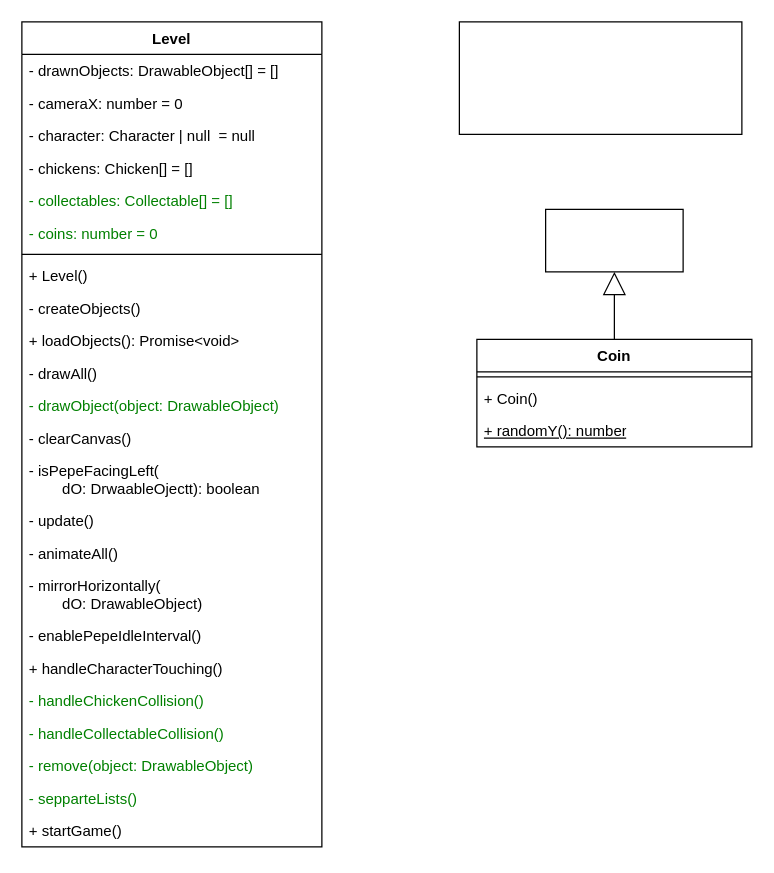
This 774x873 diagram has some shape labels left out. Here are the shapes that lost their labels. From the top down, the centre of each, then its label:
pixel 600 77: <<Enumeration>> CoinSate idle collected
pixel 613 240: Collectable
